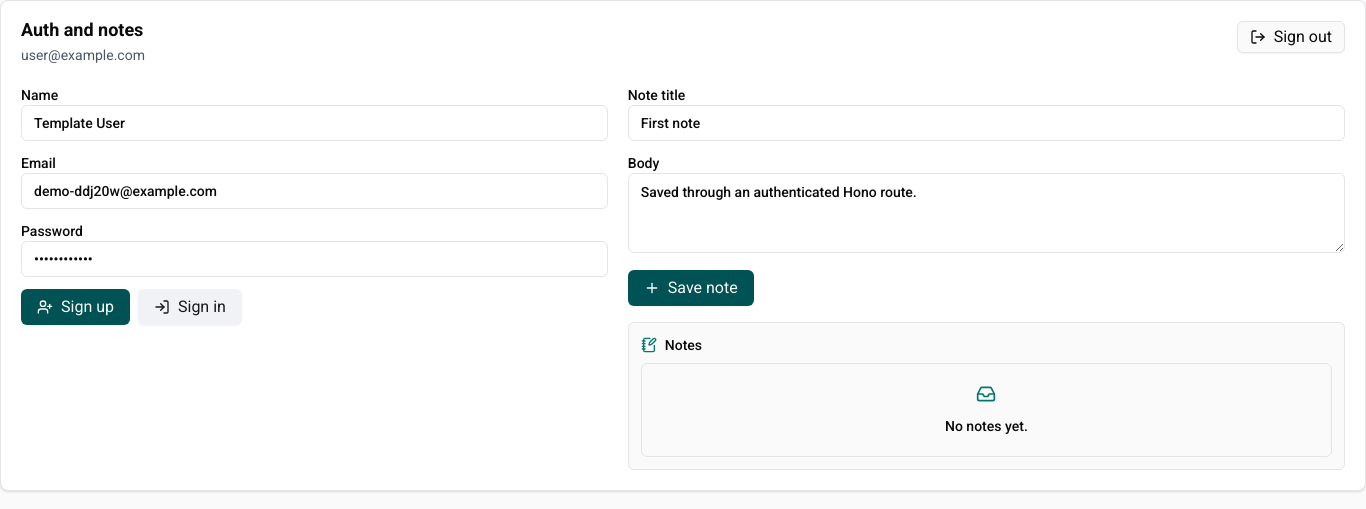
AuthNotesDemo › creates a note for a signed-in user
The image size is (1366, 509).
Expected: the text "No notes yet." is shown, [945,416,1028,436]
Replace the text in the field labelled "Note title" with "Created note" at (986, 123), box [628,105,1345,141]
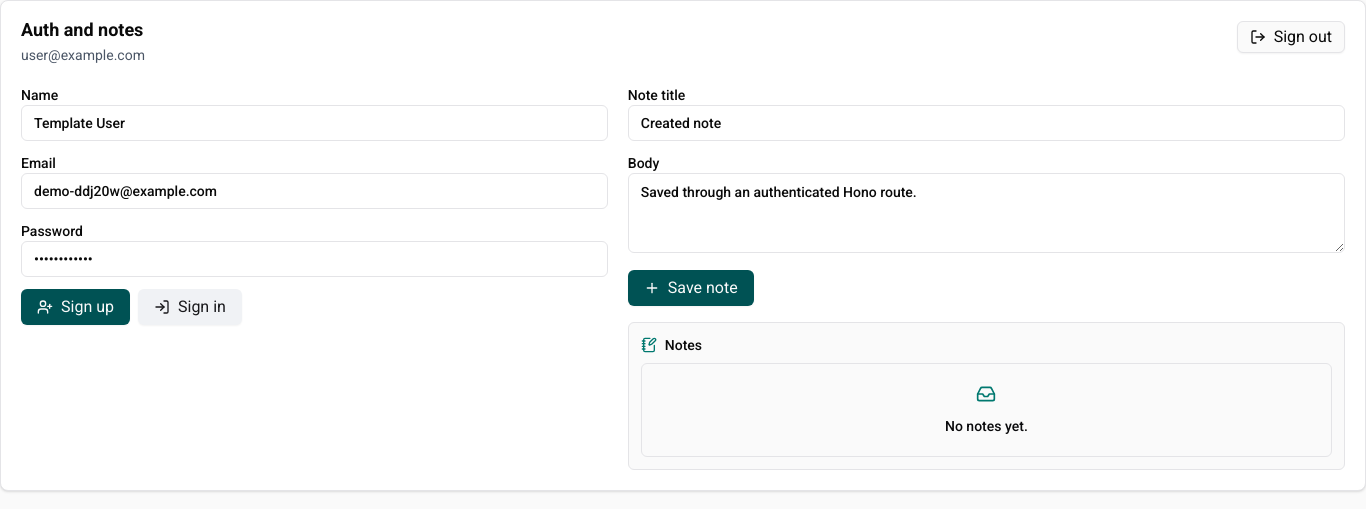
Replace the text in the text box labelled "Body" with "Saved in the test." at (986, 213), box [628,173,1345,253]
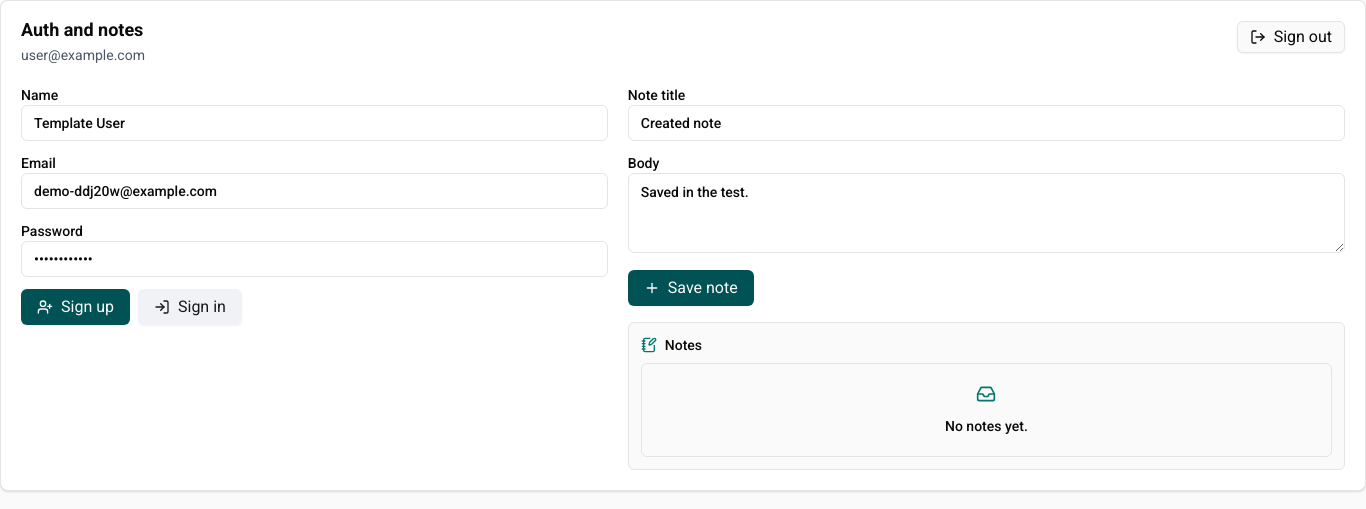
Click the button "Save note" at (691, 288), box [628,270,754,306]
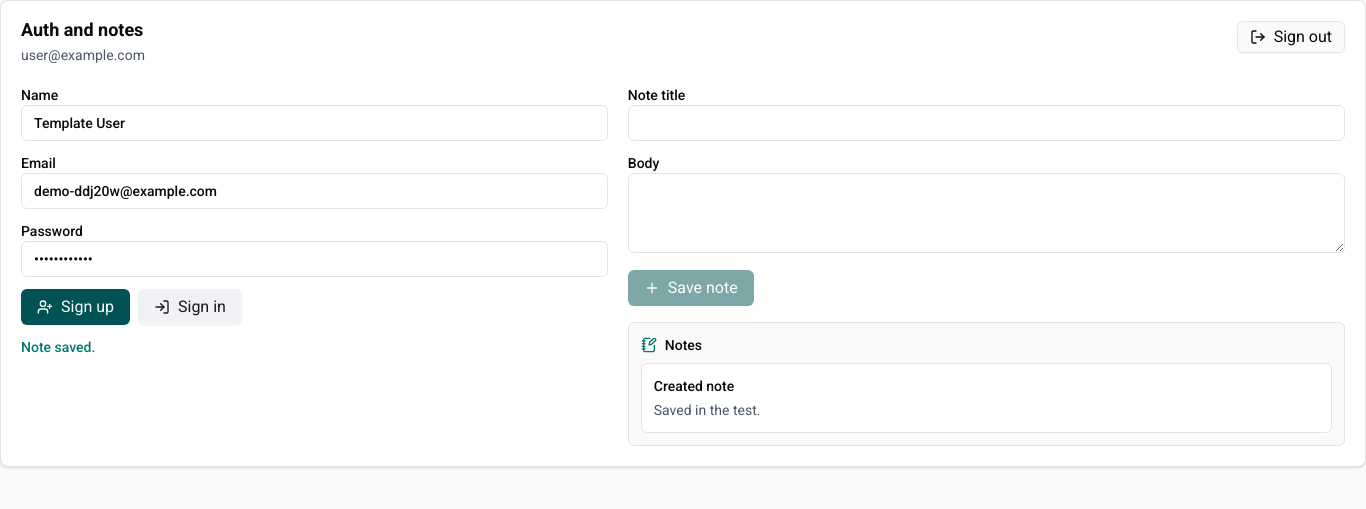
Now the text "Created note" is shown, box [654,378,734,394]
Now the text "Saved in the test." is shown, box [654,402,760,418]
